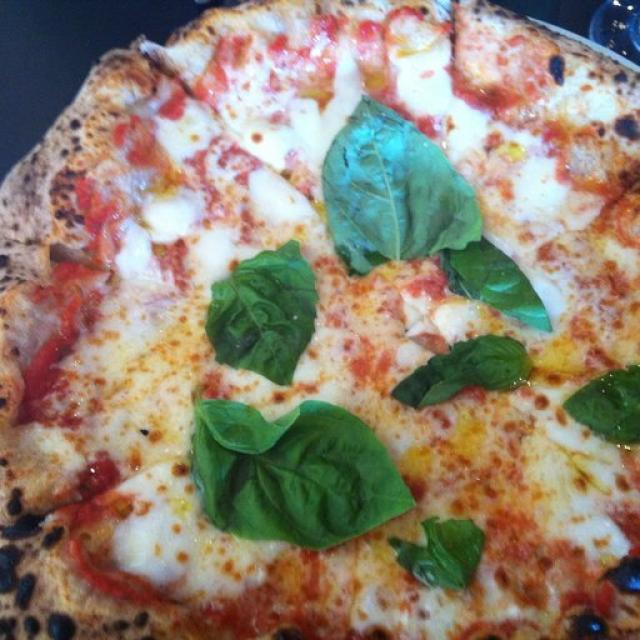Basil: (193, 393, 413, 552), (320, 95, 482, 267), (212, 239, 321, 386), (442, 241, 554, 335), (391, 338, 524, 403), (564, 375, 640, 439), (412, 524, 480, 586)
Pizza: (0, 0, 640, 640)
